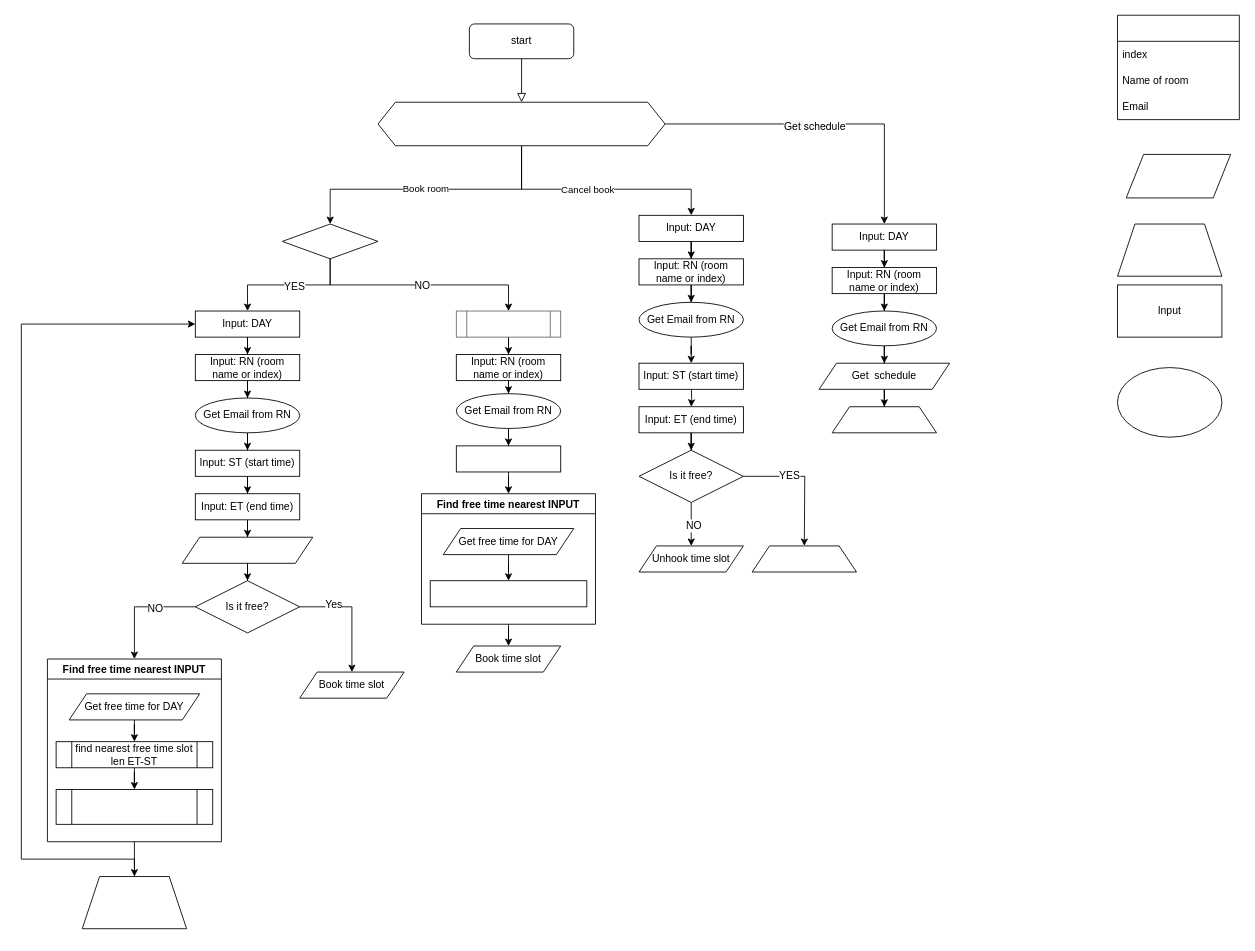
This 1255x951 diagram has some shape labels left out. The shapes that lost their labels are listed below. From the top down, each one's box as (x1, y1, x2, y2) in pixels, then its label:
(1117, 14, 1239, 120): Database
(377, 101, 665, 146): Task you want
(1125, 154, 1231, 198): O365 API request
(281, 223, 378, 259): Special time?
(1117, 223, 1222, 276): output
(455, 310, 561, 337): DAY = today
(831, 406, 937, 433): Output: free slots
(1117, 367, 1222, 437): get info from DB
(455, 445, 561, 472): Input: LEN (time slot min len)
(181, 536, 313, 563): Check for free
(751, 545, 857, 572): Output: ERROR
(429, 580, 587, 607): find nearest free time slot len LEN
(55, 789, 213, 824): find max free time slot in [ST - ET]
(81, 876, 187, 929): Output: possible variants
